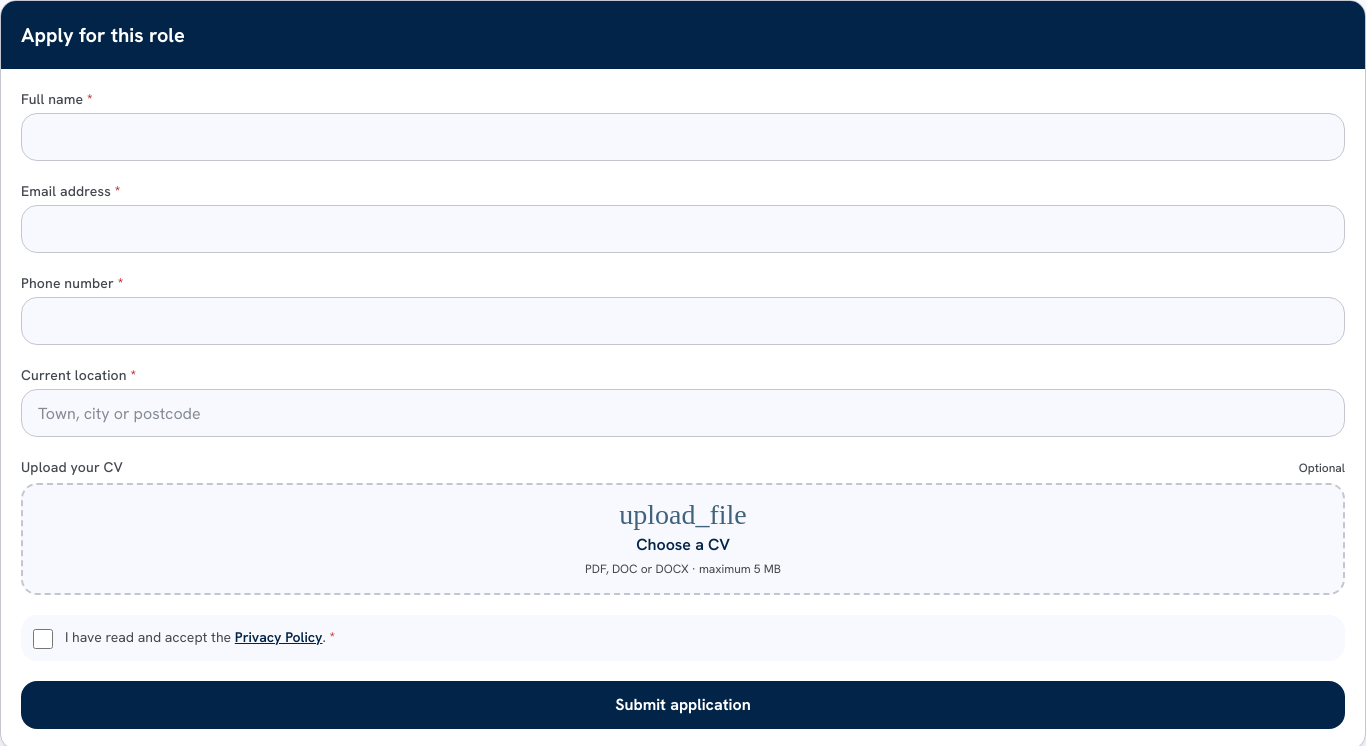
Test: GuestApplicationForm › shows a form-level error and preserves entered values on a recoverable server error
This screenshot has width=1366, height=746.
Type "Jane Doe" into the field labelled "Full name *" at (683, 137), box [21,113,1345,161]
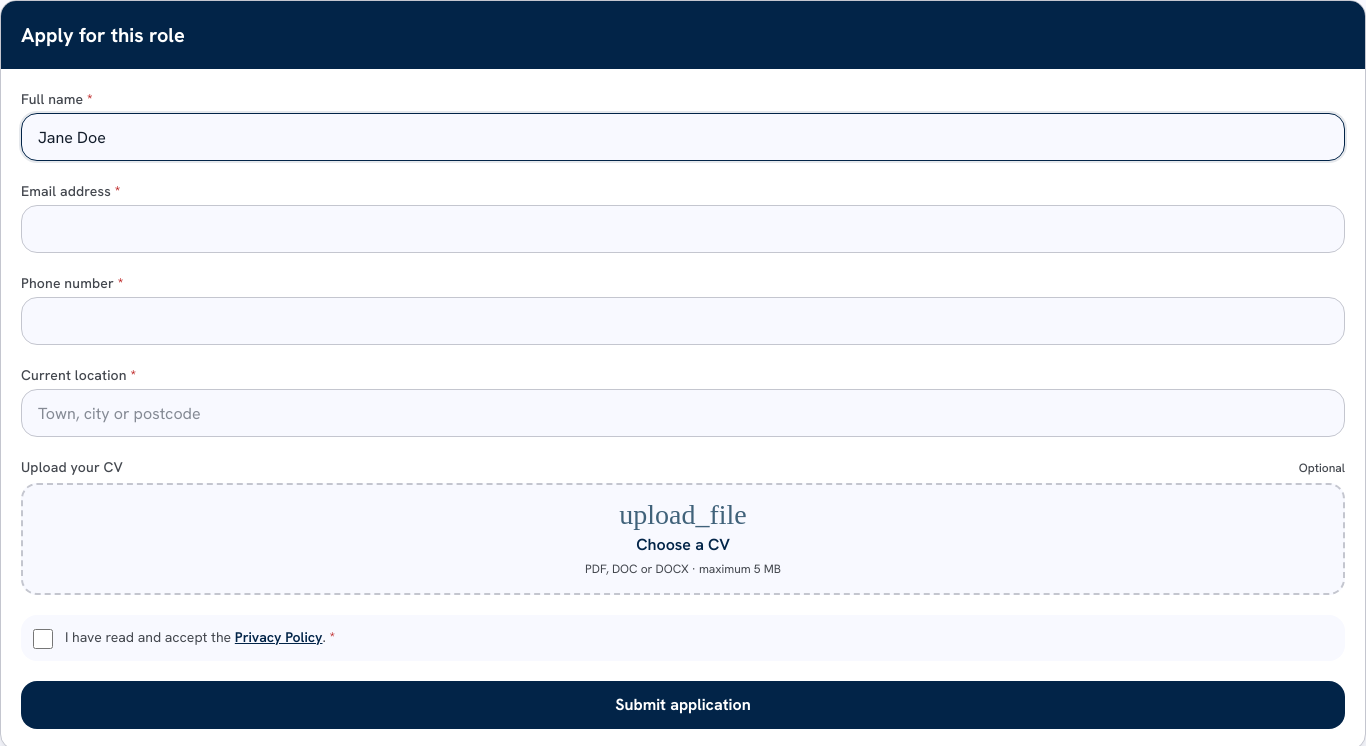
Type "jane@example.com" into the field labelled "Email address *" at (683, 229), box [21,205,1345,253]
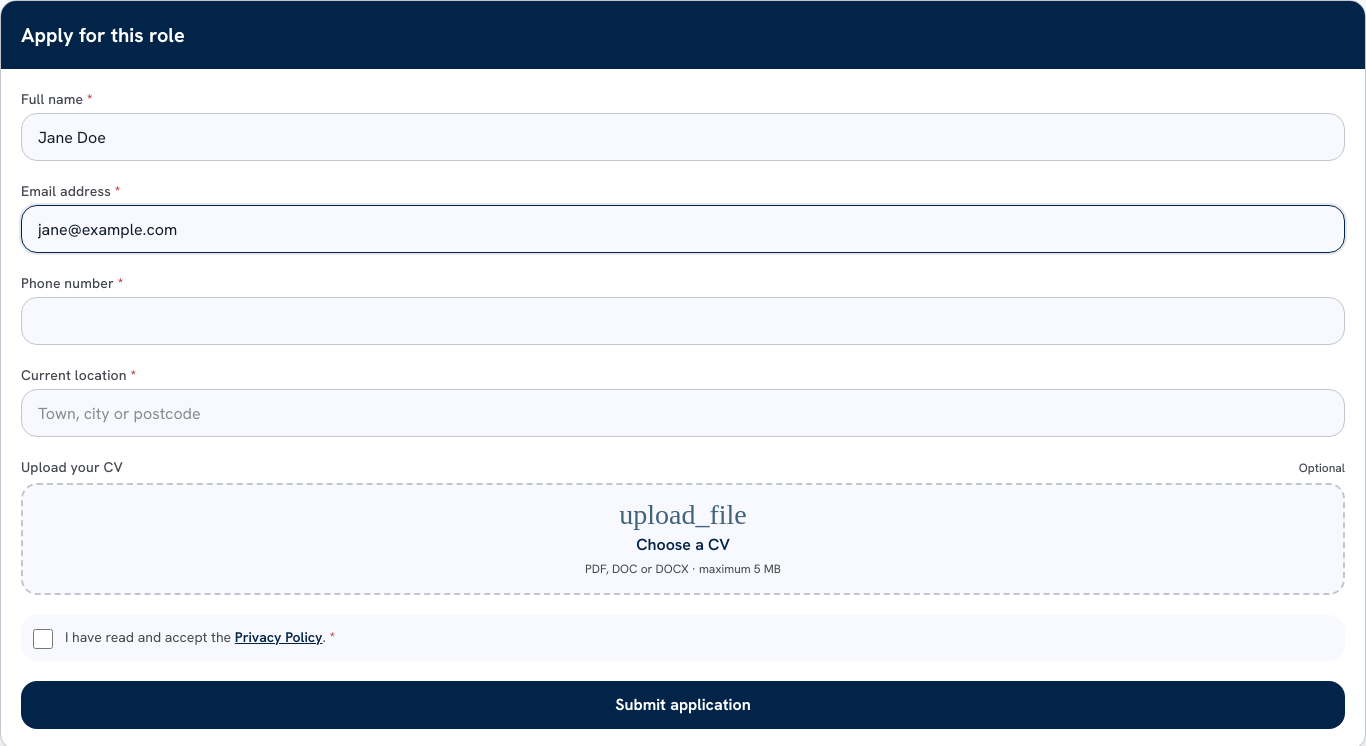
Type "07123456789" into the field labelled "Phone number *" at (683, 321), box [21,297,1345,345]
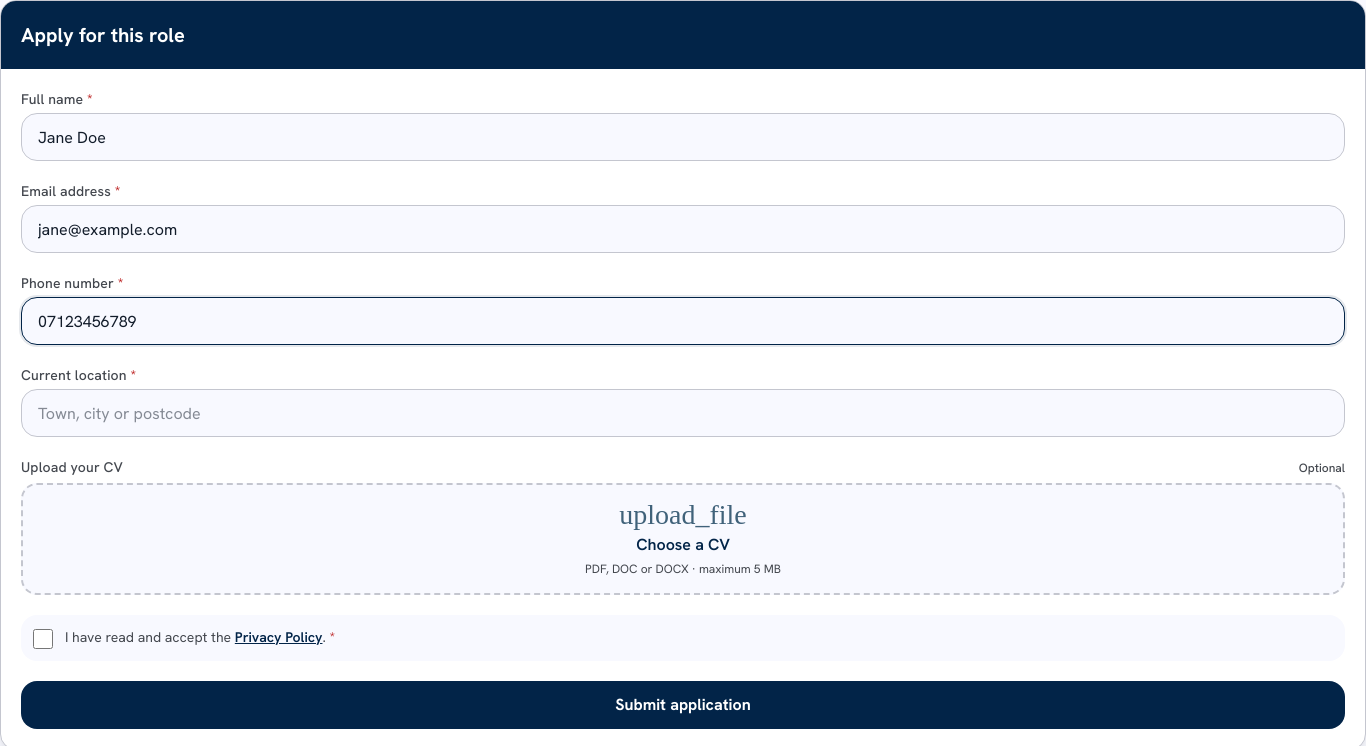
Type "Foston" into the field labelled "Current location *" at (683, 413), box [21,389,1345,437]
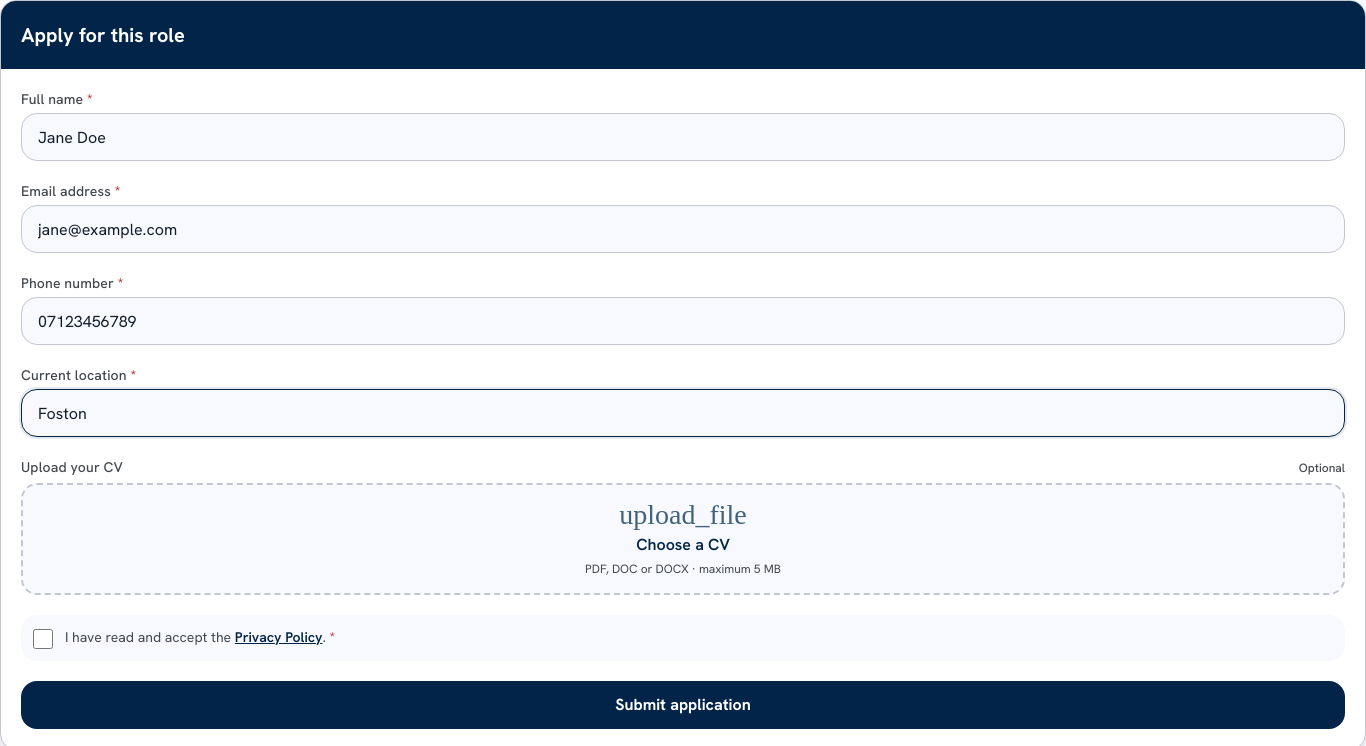
Click the checkbox labelled "I have read and accept the Privacy Policy . *" at (43, 639), box [33,629,53,649]
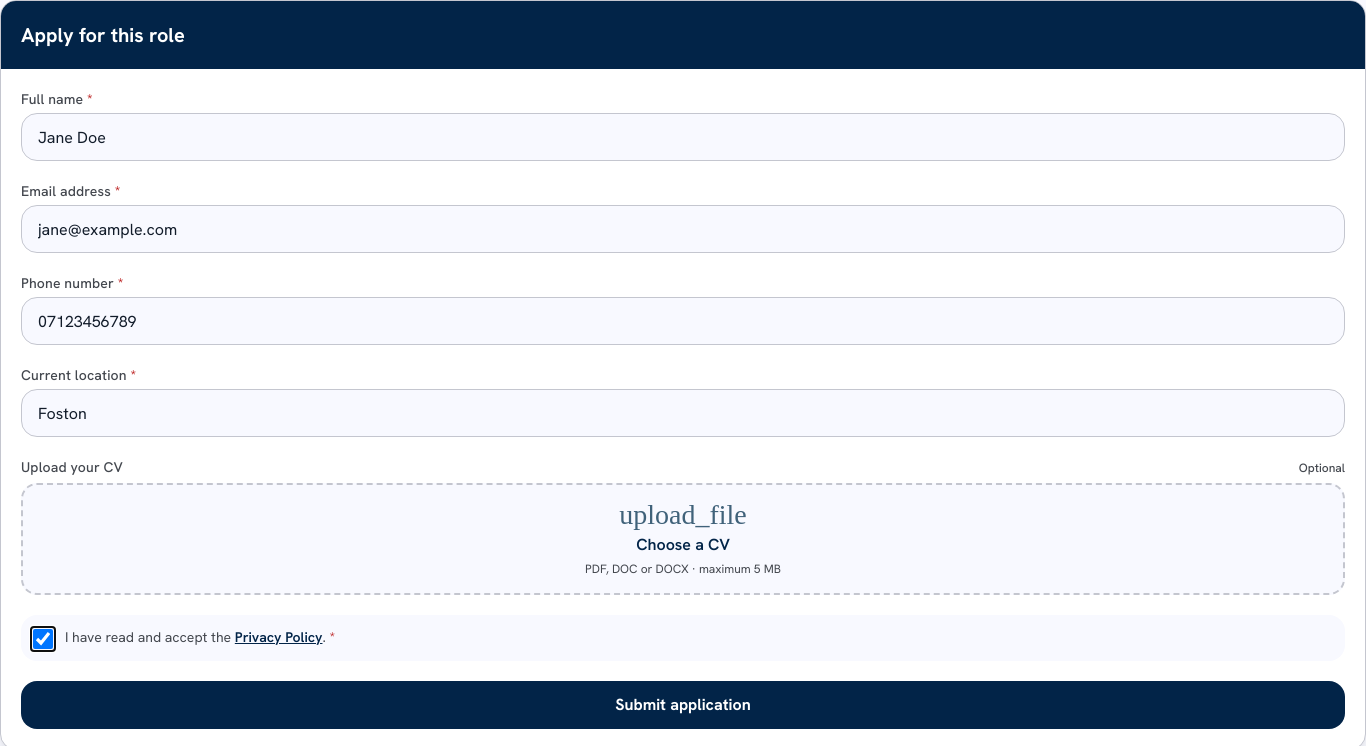
Click the button "Submit application" at (683, 705), box [21,681,1345,729]
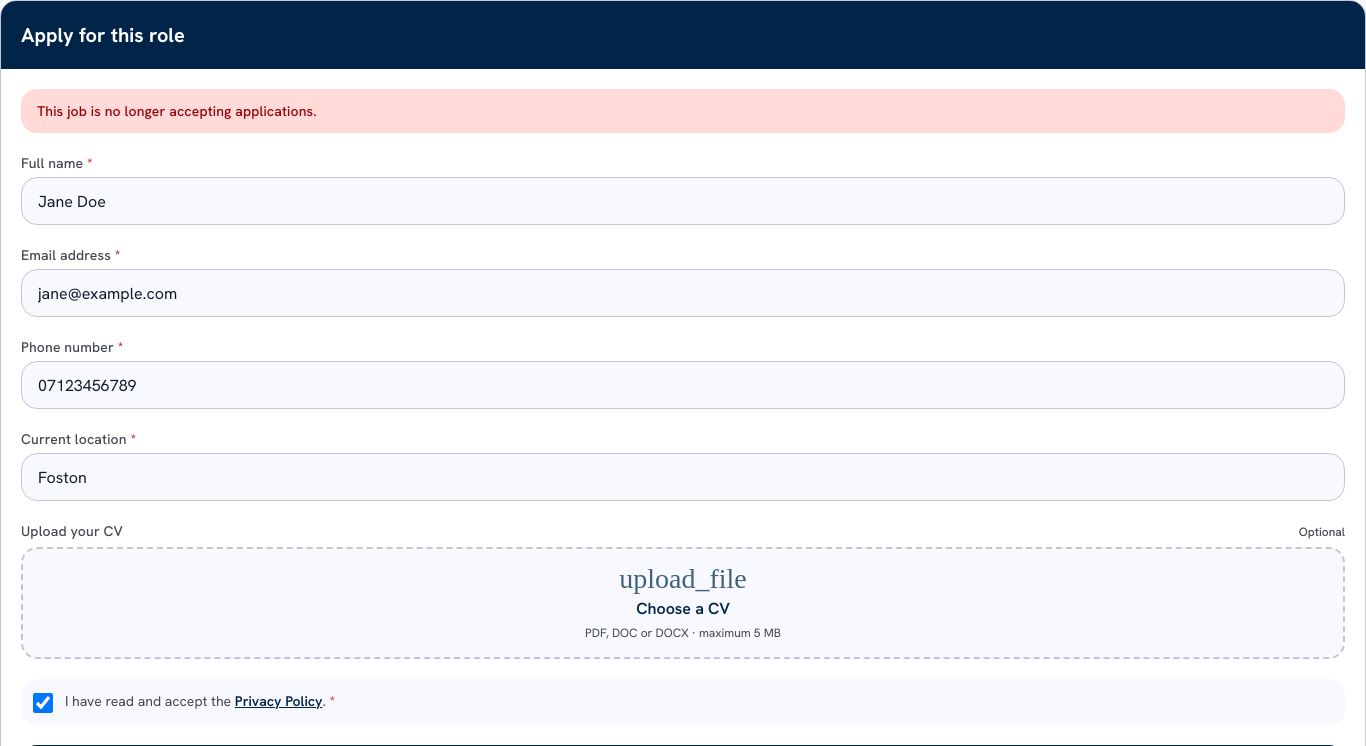
Expected: the text "This job is no longer accepting applications." is shown, [21,89,1345,133]
